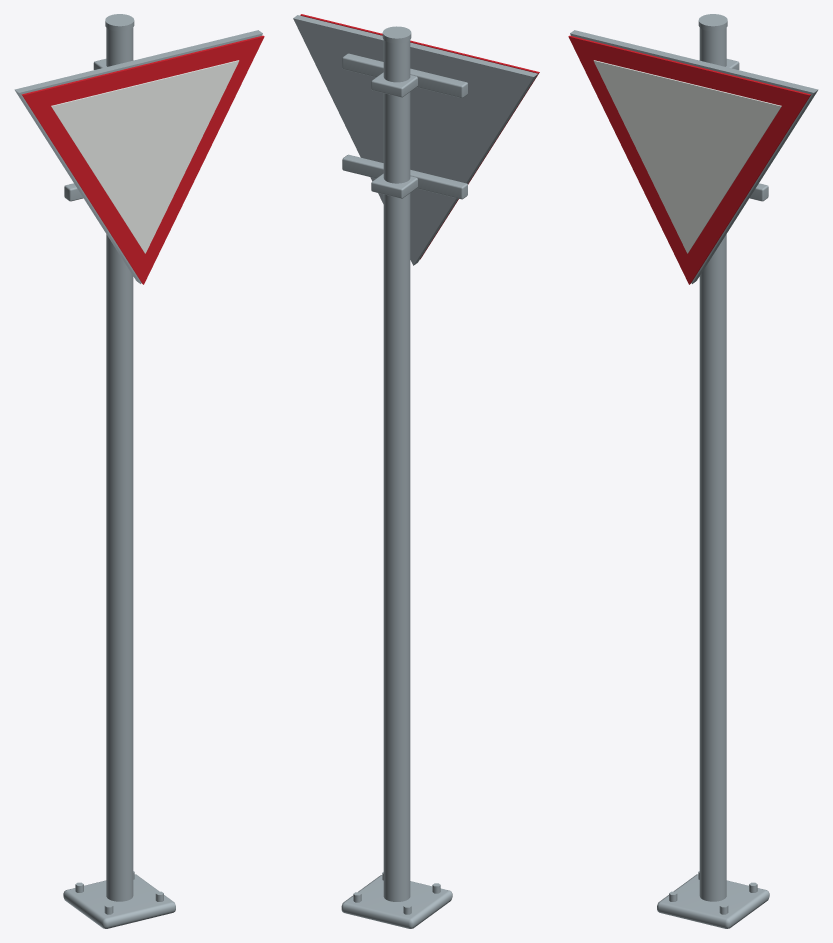
Rendered from DS_Sign_Yield.glb.
3 renders of one model, left to right at view 1: azimuth 30°, elevation 25°; view 2: azimuth 150°, elevation 25°; view 3: azimuth 330°, elevation 25°, orthographic.
Visible parts, largest first — view 1: Post.001, Face_Field.001, Face_Border.001, BasePlate.001, Plate_Back.001; view 2: Post.001, Plate_Back.001, BasePlate.001, RearRail.003, RearRail.002, Face_Border.001, PostClamp.002, PostClamp.003; view 3: Post.001, Face_Field.001, Face_Border.001, BasePlate.001, Plate_Back.001.
Boxes of the visible parts, x1,y1,x2,y2 form: Post.001: (106,28,133,901); Face_Field.001: (51,60,239,253); Face_Border.001: (21,35,264,284); BasePlate.001: (63,874,175,928); Plate_Back.001: (14,30,262,283); Post.001: (383,40,410,901); Plate_Back.001: (293,15,537,265); BasePlate.001: (341,875,452,928); RearRail.003: (342,53,467,97); RearRail.002: (342,154,467,199); Face_Border.001: (300,14,539,259); PostClamp.002: (371,173,417,198); PostClamp.003: (371,72,417,97); Post.001: (699,28,726,901); Face_Field.001: (593,60,781,253); Face_Border.001: (568,35,811,284); BasePlate.001: (657,874,769,928); Plate_Back.001: (570,30,818,283).
Bounding box in the file's own units: 0.7967 × 2.77 × 0.266.
